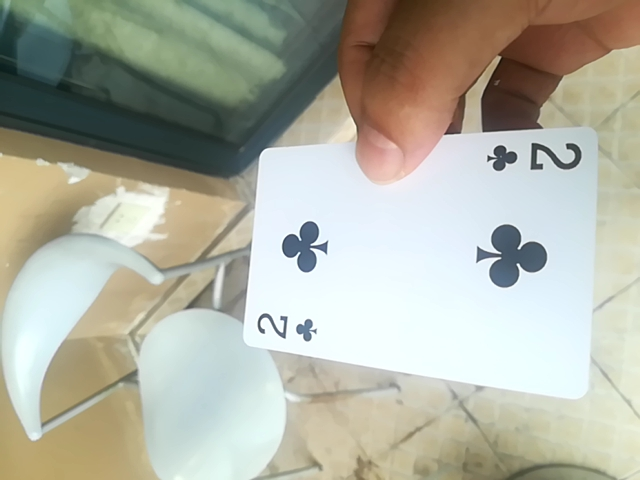mh 2: (237, 127, 608, 399)
